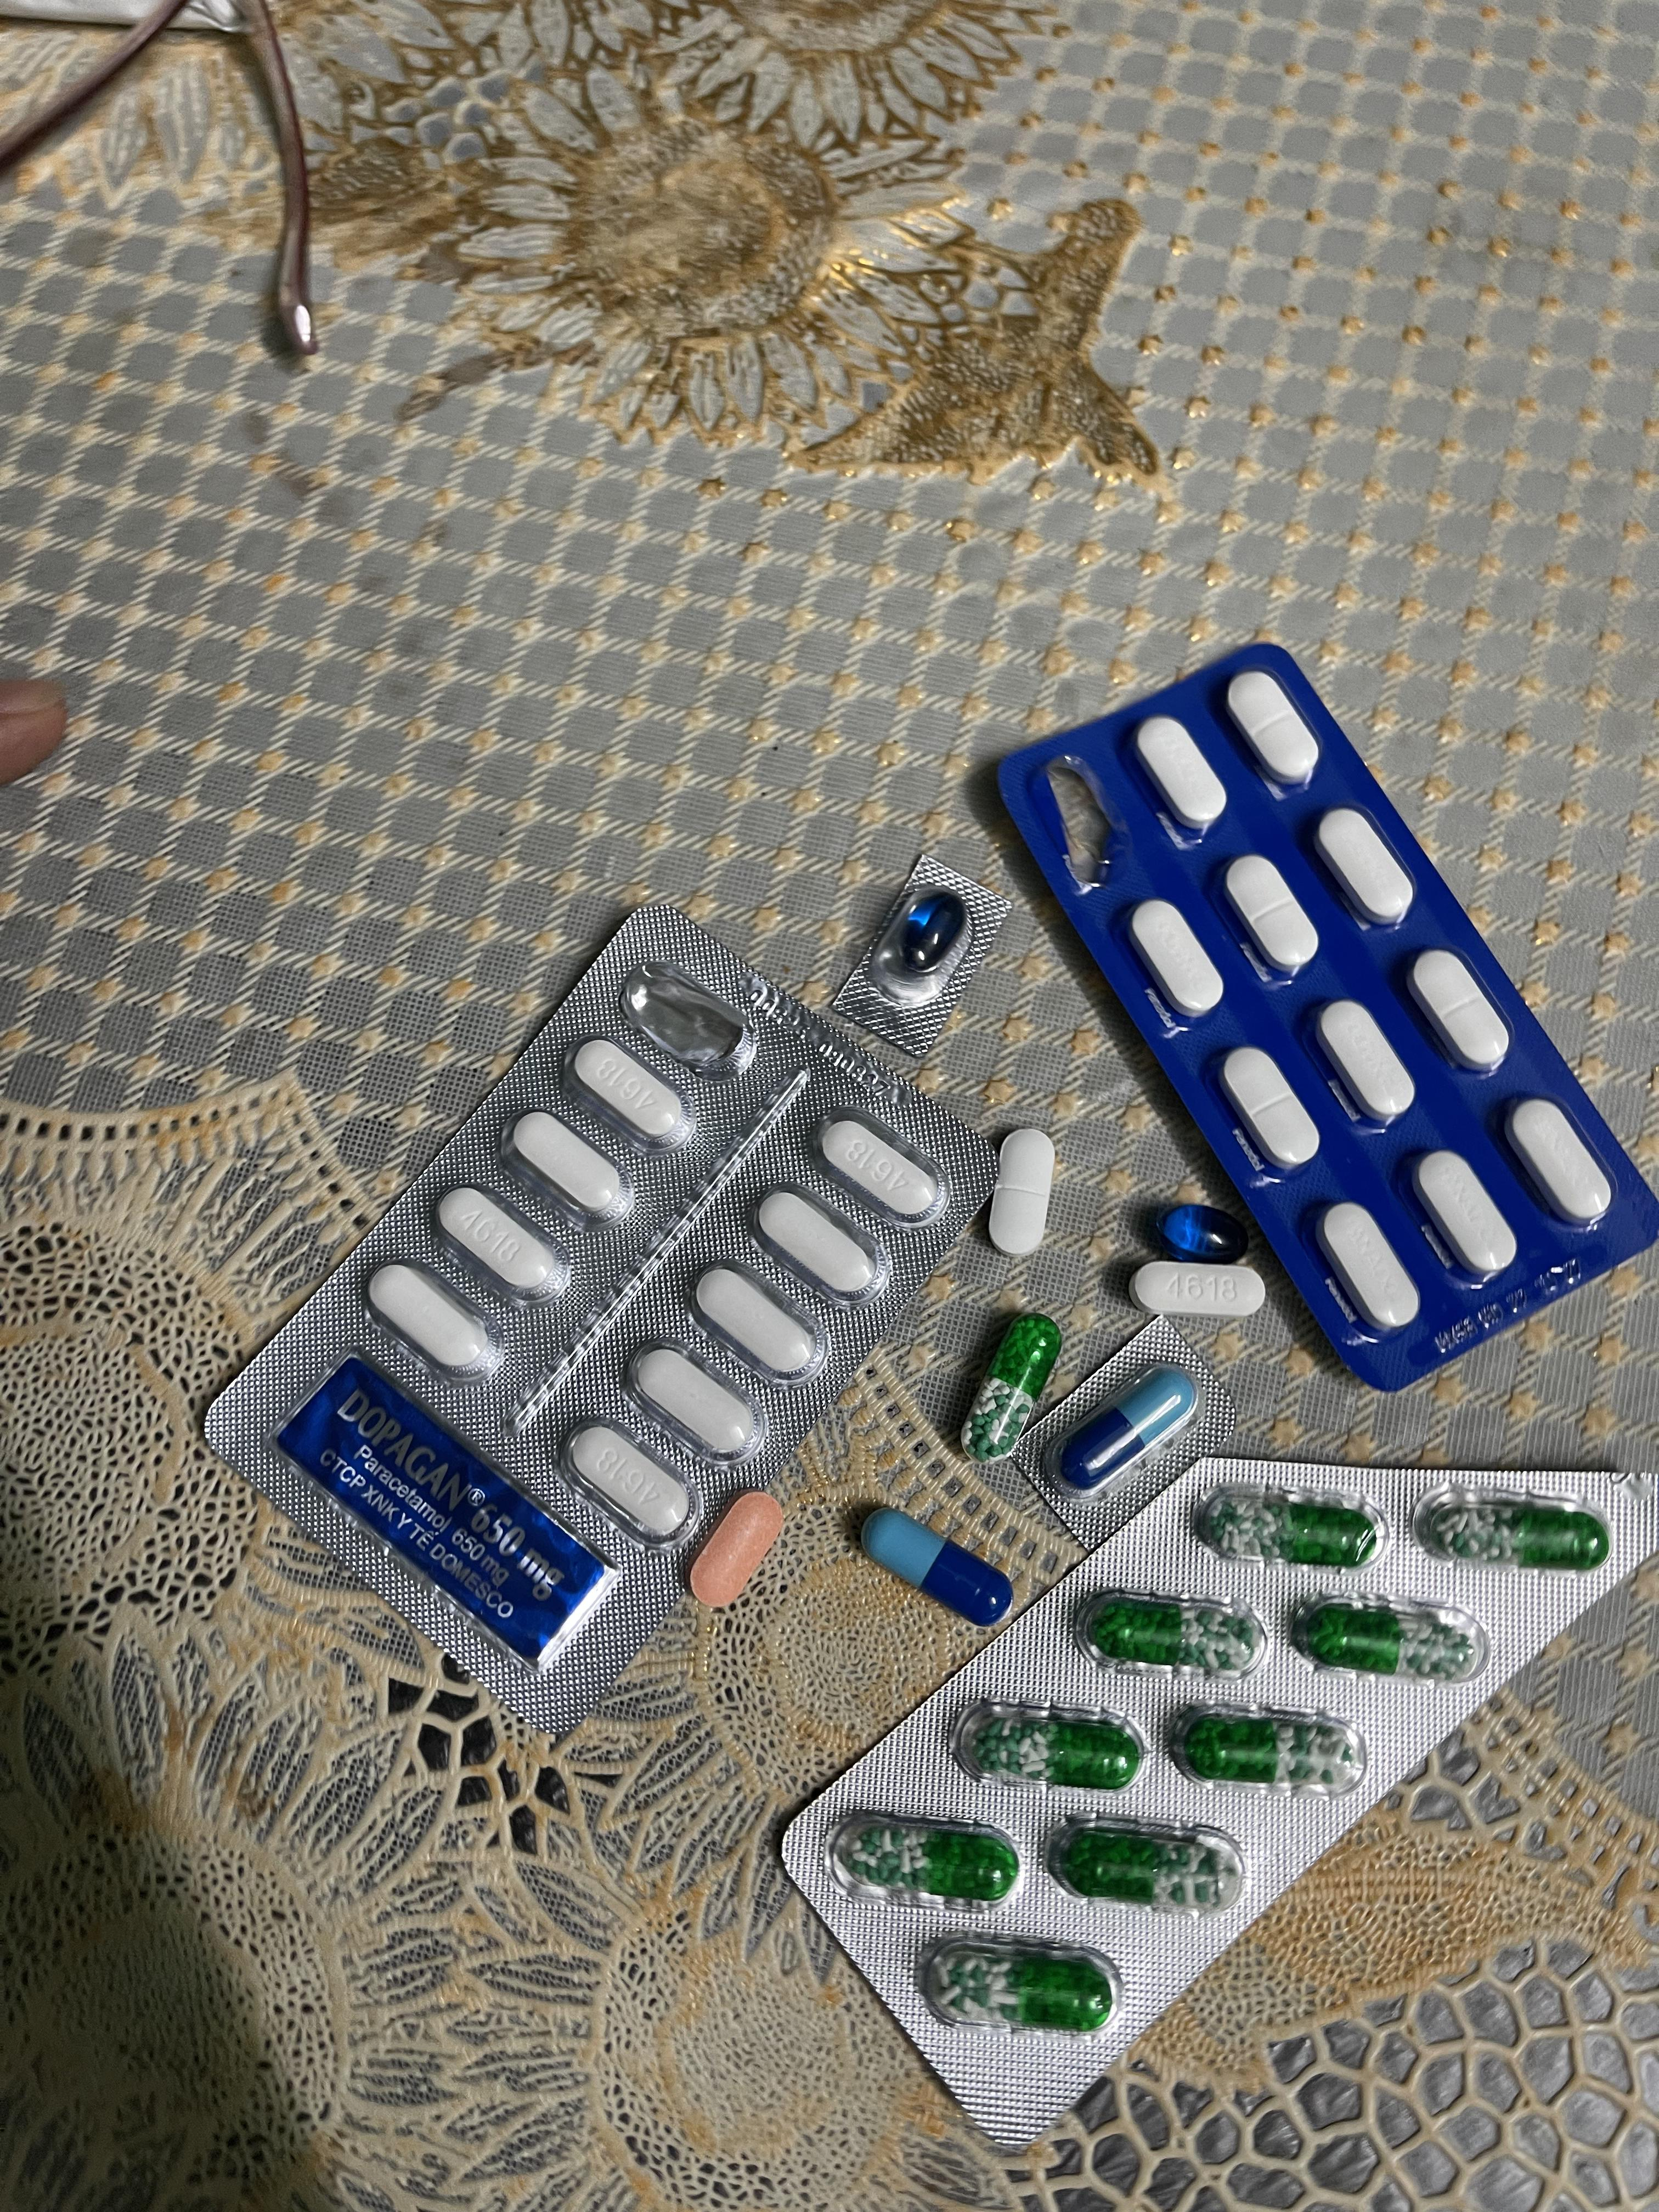Lincomyxin_500mg: (1159, 1204, 1253, 1266), (899, 895, 964, 970)
Loratadine_10mg: (688, 1493, 786, 1606)
Paracetamol_350mg: (1506, 1097, 1617, 1223), (1410, 1150, 1520, 1275), (1316, 1204, 1420, 1331), (1314, 996, 1419, 1120), (1220, 1047, 1321, 1172), (1406, 949, 1511, 1069), (1314, 808, 1417, 927), (1222, 853, 1317, 972), (1225, 671, 1319, 787), (1129, 899, 1222, 1015), (1133, 718, 1223, 833), (988, 1127, 1054, 1252)
Paracetamol_500mg: (559, 1420, 694, 1541), (692, 1263, 819, 1379), (505, 1111, 634, 1226), (437, 1186, 568, 1299), (627, 1346, 755, 1461), (368, 1266, 493, 1379), (751, 1190, 877, 1301), (570, 1042, 695, 1150), (819, 1118, 943, 1224), (1129, 1261, 1269, 1320)
Paracetamol_650mg: (918, 1933, 1114, 2033), (835, 1811, 1021, 1911), (1415, 1479, 1617, 1564), (951, 1698, 1134, 1791), (1291, 1594, 1486, 1679), (1053, 1817, 1232, 1909), (1173, 1703, 1356, 1792), (958, 1315, 1063, 1465), (1202, 1486, 1382, 1566), (1087, 1592, 1255, 1674)
pill: (1056, 1366, 1195, 1494), (859, 1514, 1012, 1630)
